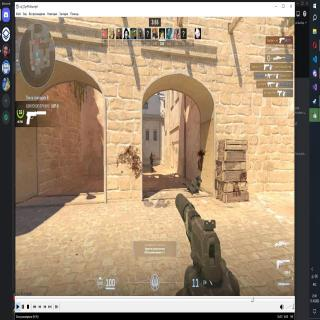CT-Body: (148, 152, 156, 172)
CT-Head: (151, 151, 153, 157)
